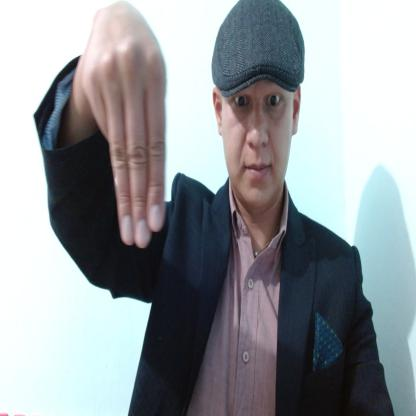M: (78, 2, 168, 248)
